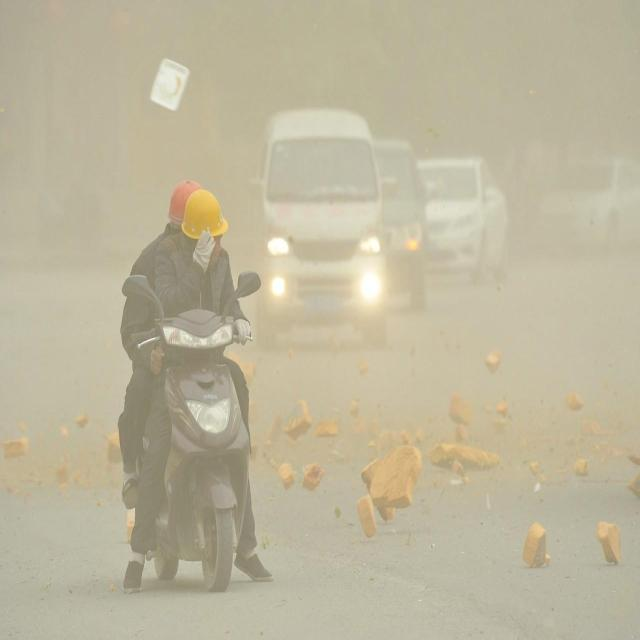Car: (418, 156, 513, 286), (538, 156, 640, 262), (375, 137, 433, 318)
Cycle: (116, 270, 262, 589)
Van: (253, 107, 394, 343)
